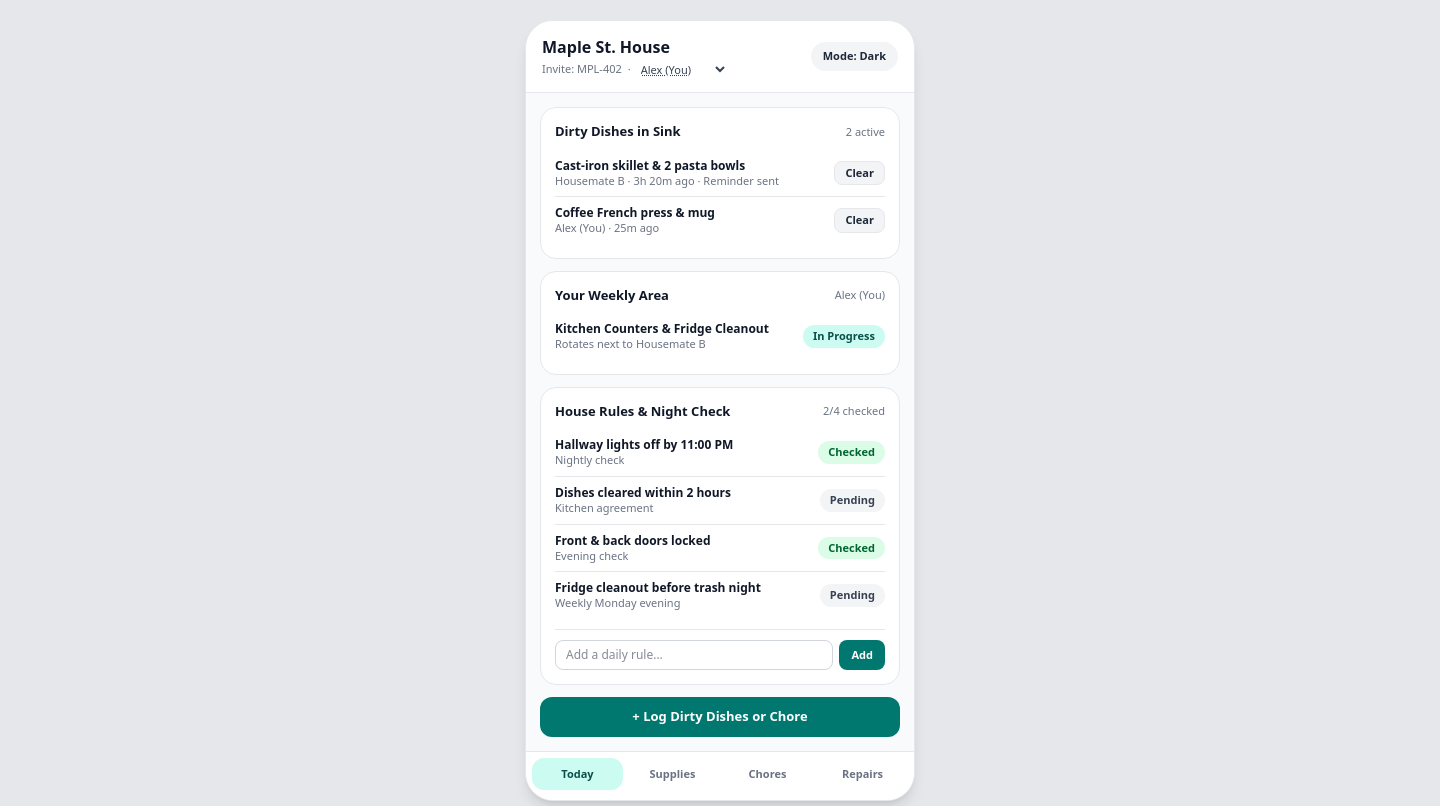
Test: HouseFlow Tasks 4-7: dishes, garbage night, chores, and weekly rotation › logs dirty dishes and clears them in 1 tap (US-1)
The width and height of the screenshot is (1440, 806).
Click the button "+ Log Dirty Dishes or Chore": coordinates (720, 717) x1=540 y1=697 x2=900 y2=737
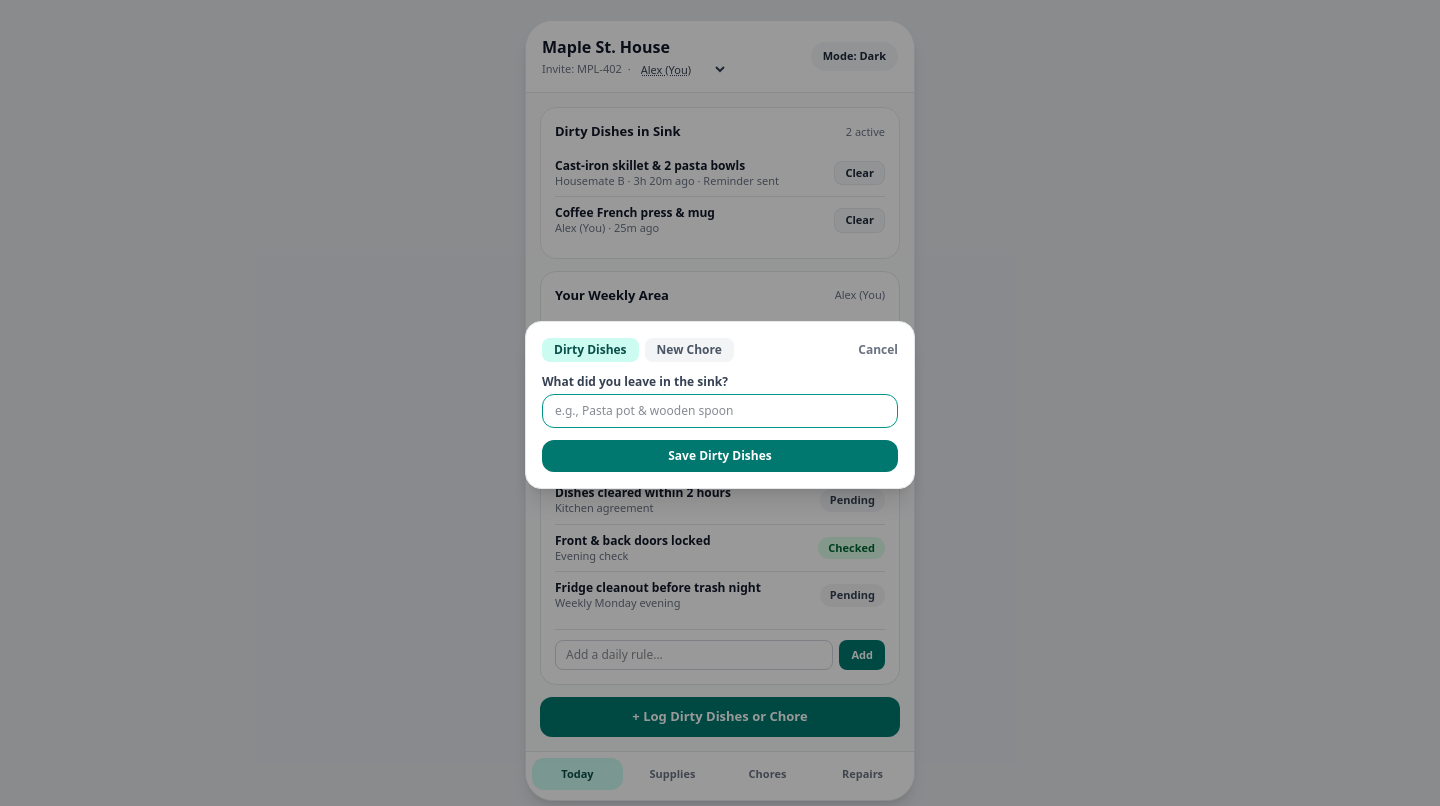
In the field labelled "What did you leave in the sink?": coordinates (720, 411) x1=542 y1=394 x2=898 y2=428, type "Soup pot & ladle"
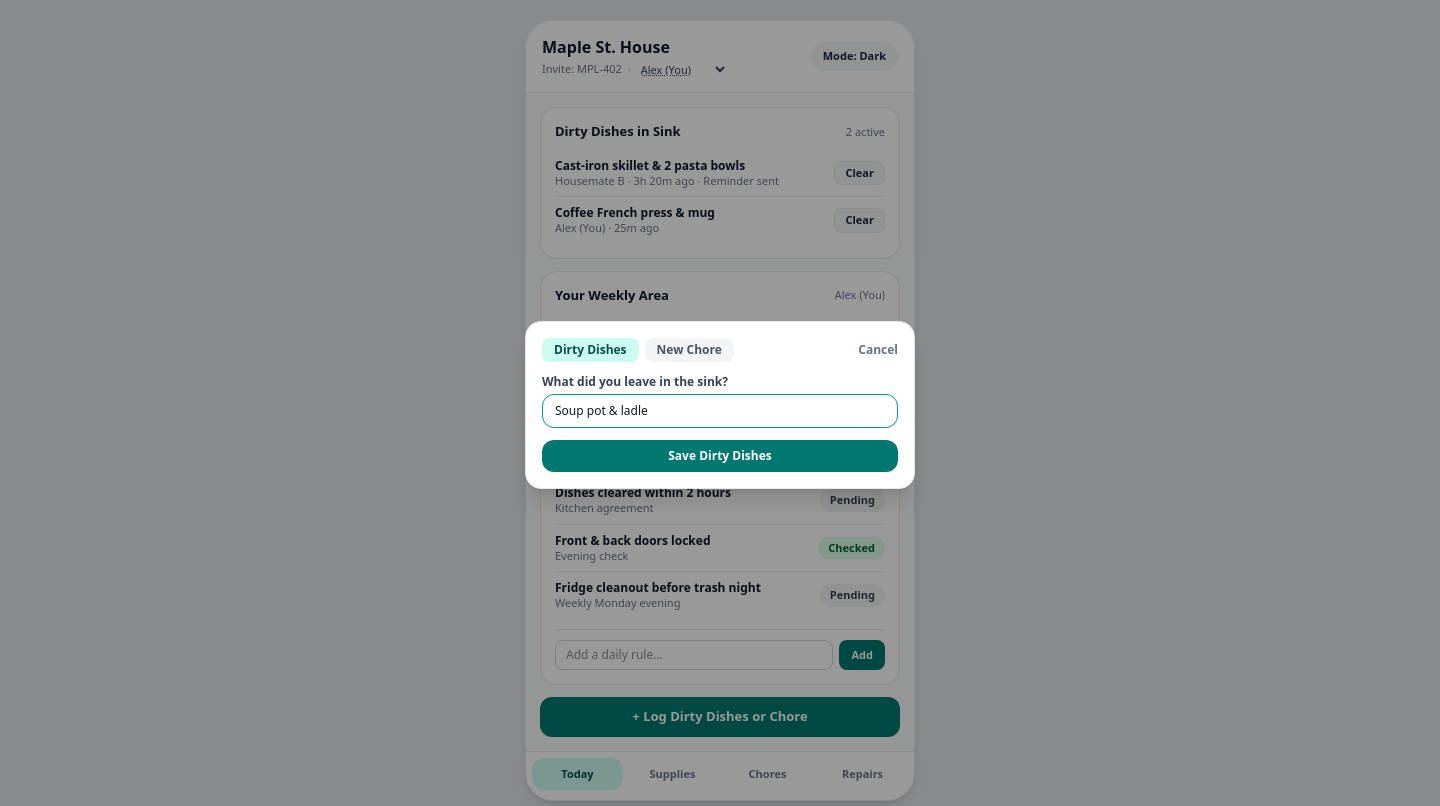
Click the button "Save Dirty Dishes": coordinates (720, 456) x1=542 y1=440 x2=898 y2=472
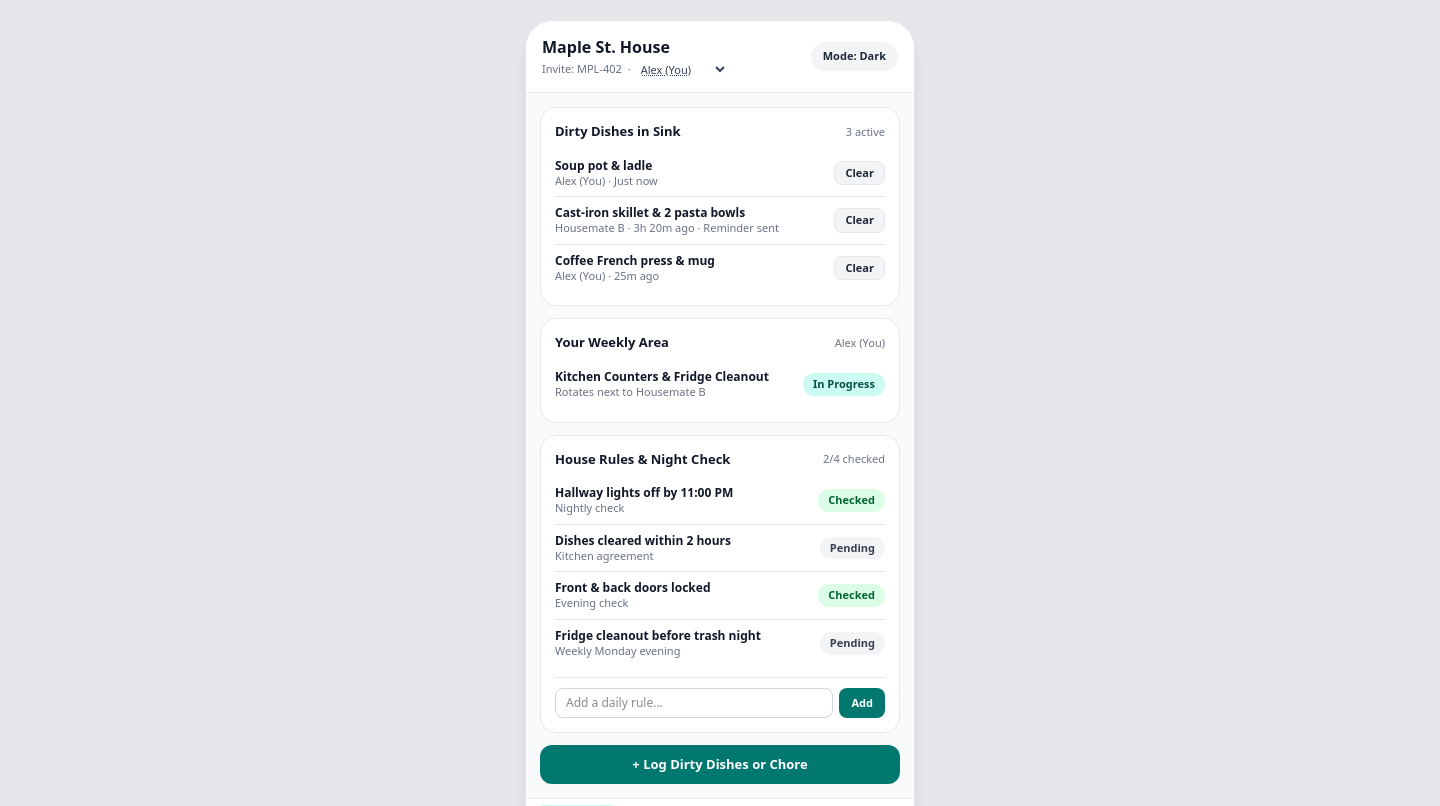
Check: the text "Soup pot & ladle" is shown, box x1=555 y1=158 x2=658 y2=174
Click the button with aria-label "Clear Soup pot & ladle": coordinates (860, 173) x1=834 y1=160 x2=885 y2=185
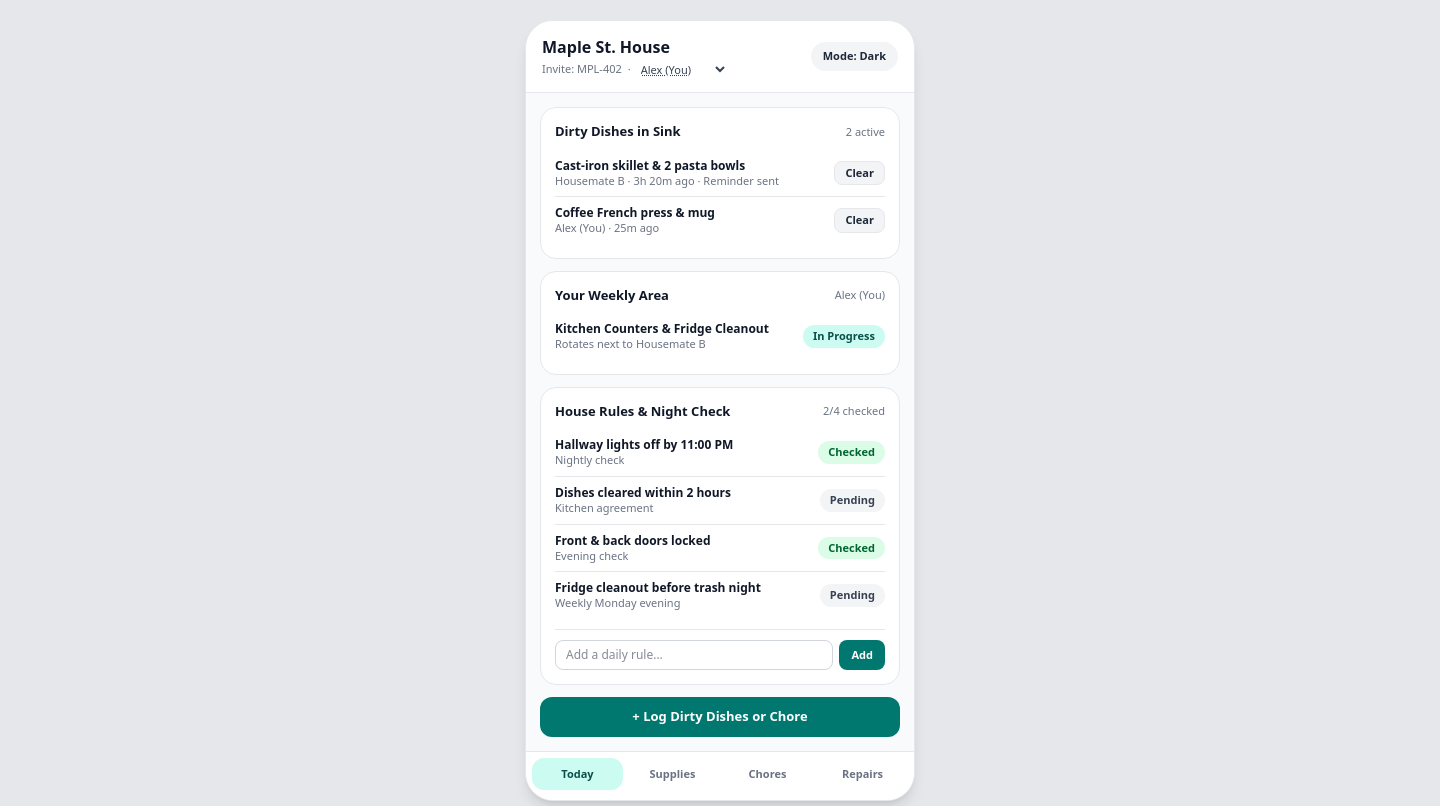
Check: the text "Soup pot & ladle" is gone
